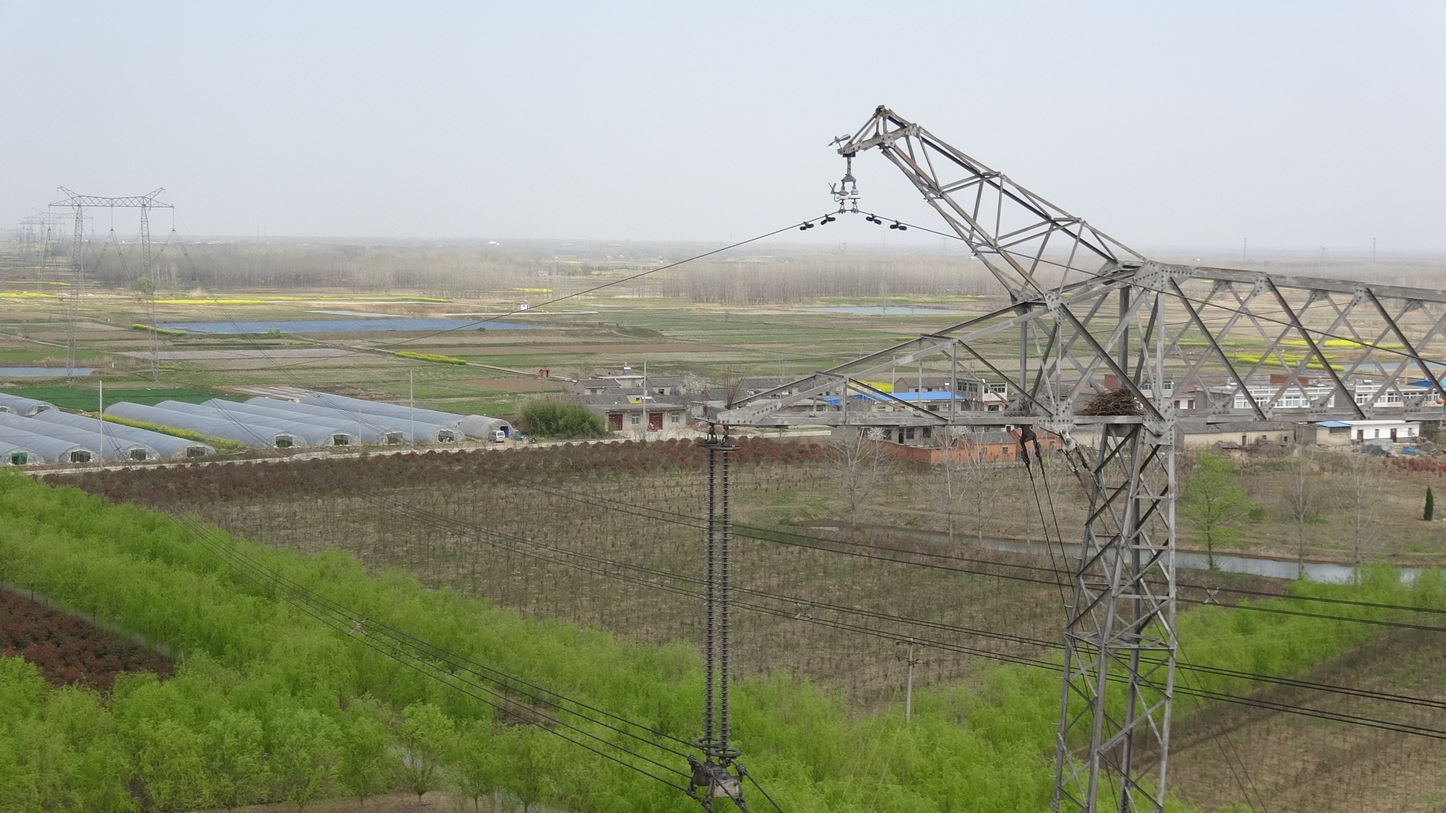insulator: (700, 450, 720, 742), (717, 449, 735, 748)
